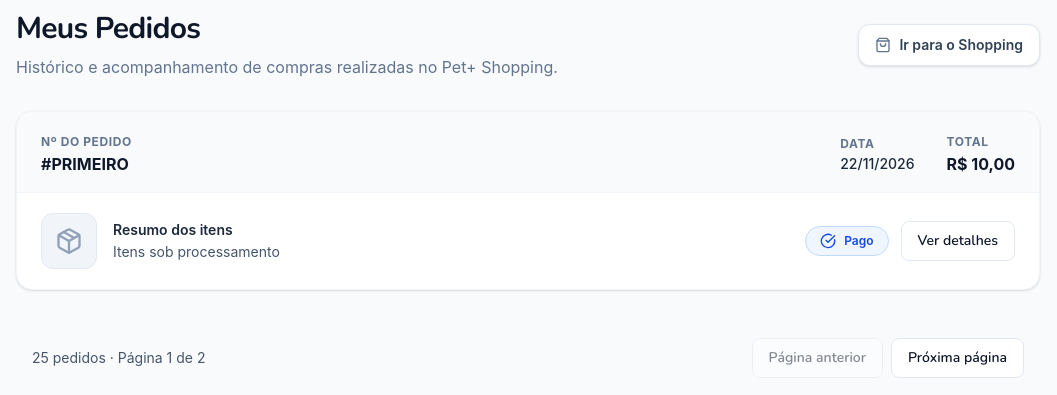
Tutor navega por todas as páginas e volta preservando total
Expected: the text "25 pedidos · Página 1 de 2" is shown, [32,348,206,368]
Click the button "Próxima página" at (957, 358), box [891,338,1024,378]
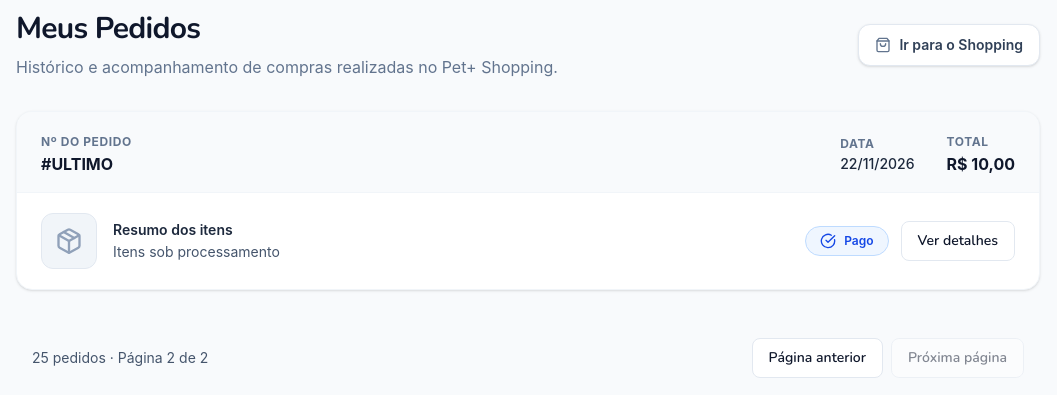
Result: the text "25 pedidos · Página 2 de 2" is shown at [32,348,208,368]
Result: the button "Próxima página" is disabled at [891,338,1024,378]
Click the button "Página anterior" at (817, 358), box [752,338,883,378]
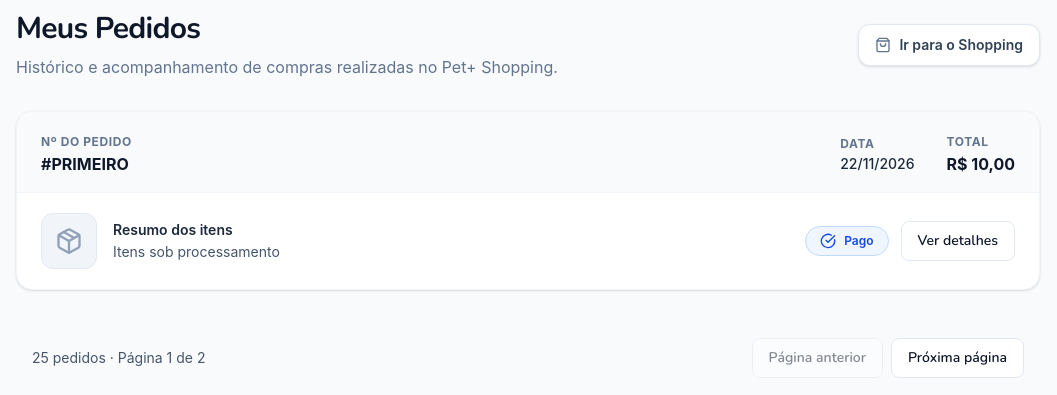
Result: the text "25 pedidos · Página 1 de 2" is shown at [32,348,206,368]
